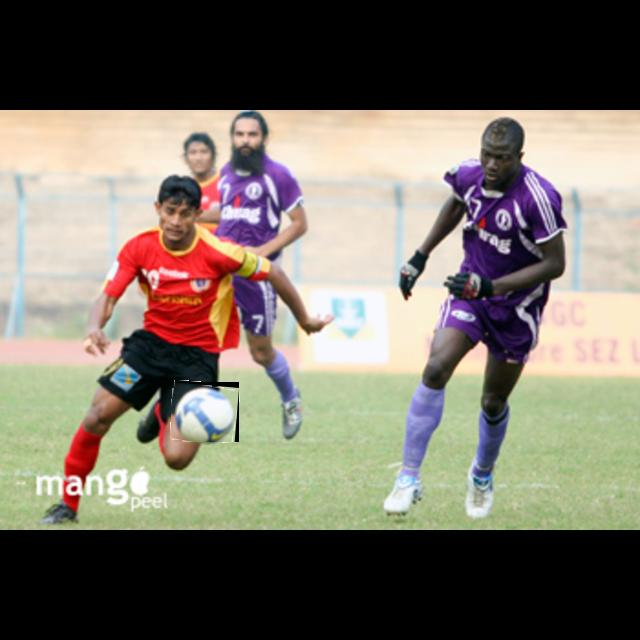Football: (171, 382, 239, 442)
